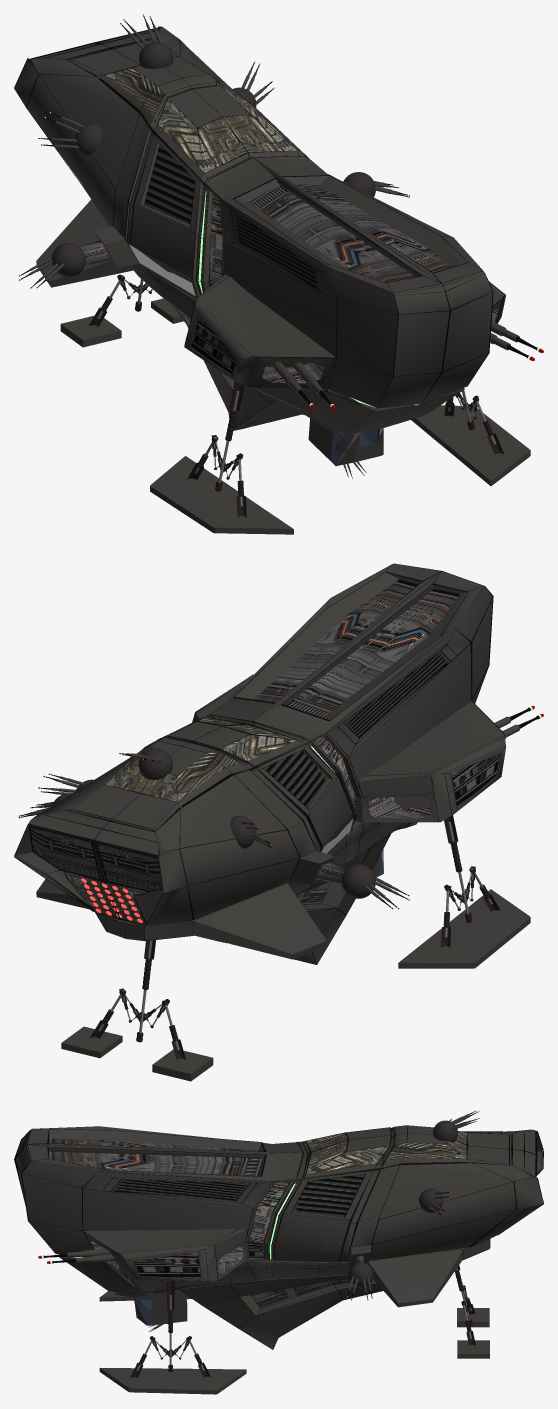
3 renders of one model, top to bottom at view 1: azimuth 30°, elevation 25°; view 2: azimuth 150°, elevation 25°; view 3: azimuth 270°, elevation 25°, orthographic. The views are drawn at different scales.
Visible parts, largest first — view 1: Cube_003_20_0, Cube_013_8_0, Cube_008_16_0, Cube_005_2_0, Cube_007_6_0, Cube_010_24_0; view 2: Cube_003_20_0, Cube_008_16_0, Cube_013_8_0, Cube_005_2_0, Cube_007_6_0, Cube_012_4_0; view 3: Cube_003_20_0, Cube_013_8_0, Cube_008_16_0, Cube_007_6_0, Cube_005_2_0, Cube_010_24_0.
Boxes of the visible parts, x1=… form: Cube_003_20_0: x1=14, y1=23, x2=530, y2=534; Cube_013_8_0: x1=14, y1=14, x2=543, y2=517; Cube_008_16_0: x1=66, y1=37, x2=498, y2=383; Cube_005_2_0: x1=106, y1=57, x2=296, y2=172; Cube_007_6_0: x1=144, y1=144, x2=318, y2=288; Cube_010_24_0: x1=330, y1=428, x2=382, y2=465; Cube_003_20_0: x1=14, y1=563, x2=530, y2=1081; Cube_008_16_0: x1=30, y1=579, x2=499, y2=905; Cube_013_8_0: x1=14, y1=563, x2=543, y2=1059; Cube_005_2_0: x1=61, y1=717, x2=296, y2=924; Cube_007_6_0: x1=264, y1=651, x2=449, y2=807; Cube_012_4_0: x1=81, y1=878, x2=142, y2=923; Cube_003_20_0: x1=16, y1=1114, x2=542, y2=1394; Cube_013_8_0: x1=14, y1=1110, x2=543, y2=1377; Cube_008_16_0: x1=48, y1=1138, x2=363, y2=1309; Cube_007_6_0: x1=112, y1=1174, x2=364, y2=1216; Cube_005_2_0: x1=307, y1=1131, x2=466, y2=1173; Cube_010_24_0: x1=134, y1=1295, x2=154, y2=1325.
Bounding box in the file's own units: 18.29 × 13.96 × 30.17.
8 materials, 8 textured.
